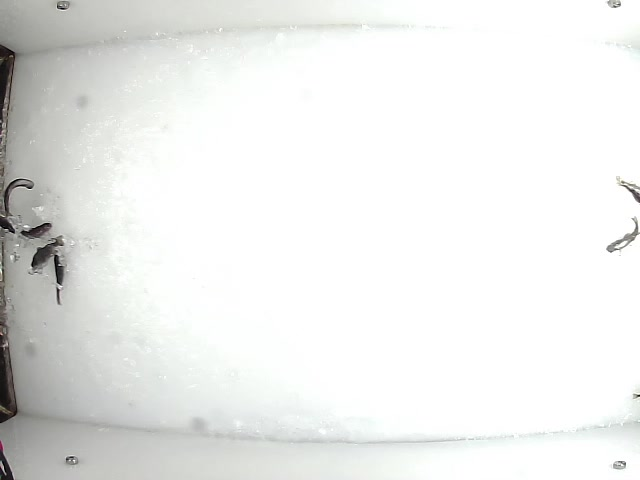fish: (26, 233, 67, 273), (2, 176, 36, 219), (604, 214, 640, 252), (50, 249, 66, 306), (18, 218, 53, 240)
